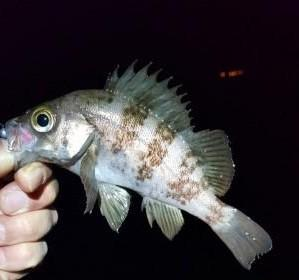fish: (0, 60, 275, 272)
